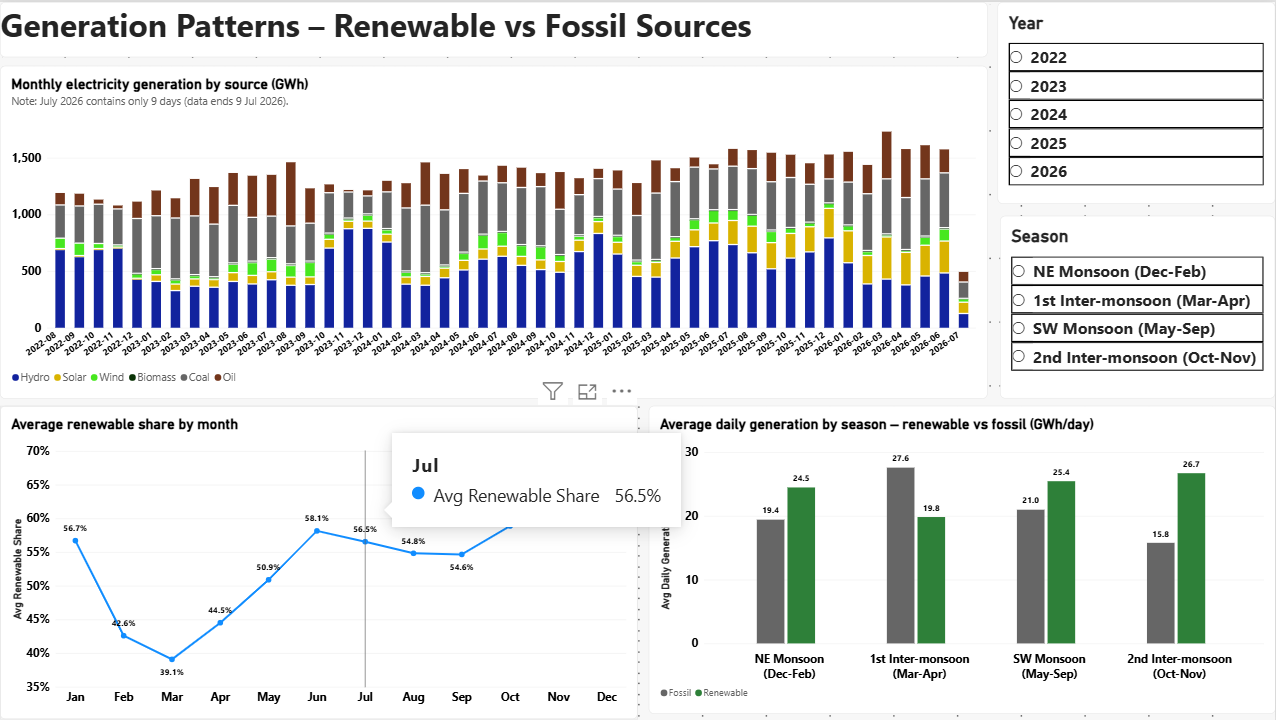

The page's visual inventory and layout, read from the dashboard file:
{"tool":"powerbi","page":{"name":"Generation Patterns","canvas":[1920,1080],"ordinal":1},"visuals":[{"type":"textbox","box":[0,0,1487.1,83.3],"z":0},{"type":"listSlicer","fields":{"Values":["DateTable.Year"]},"box":[1501.6,0,418.4,304.3],"z":1000},{"type":"listSlicer","fields":{"Values":["DateTable.Season"]},"box":[1505.2,322.4,414.8,275.3],"z":2000},{"type":"columnChart","title":"Monthly electricity generation by source (GWh)","fields":{"Category":["DateTable.Year Month"],"Series":["generation_by_source_long.source"],"Y":["generation_by_source_long.Total Generation (GWh)"]},"box":[0,96,1487.1,501.7],"z":3000},{"type":"lineChart","title":"Average renewable share by month","fields":{"Category":["DateTable.Month Name"],"Y":["surplus_risk_daily.Avg Renewable Share"]},"box":[0,608,960,472],"z":4000},{"type":"clusteredColumnChart","title":"Average daily generation by season – renewable vs fossil (GWh/day)","fields":{"Category":["DateTable.Season"],"Series":["generation_by_source_long.source_type"],"Y":["generation_by_source_long.Avg Daily Generation (GWh)"]},"box":[976.3,608.6,943.7,463.7],"z":5000}]}

Visuals, with their boxes in screenshot pixels (x1, y1, x2, y2), scaled from the page's 1920x1080 canvas onto the 1276x720 screenshot:
textbox: bbox=(0, 0, 988, 56)
listSlicer - DateTable.Year: bbox=(998, 0, 1275, 203)
listSlicer - DateTable.Season: bbox=(1000, 215, 1275, 398)
"Monthly electricity generation by source (GWh)" columnChart: bbox=(0, 64, 988, 398)
"Average renewable share by month" lineChart: bbox=(0, 405, 638, 719)
"Average daily generation by season – renewable vs fossil (GWh/day)" clusteredColumnChart: bbox=(649, 406, 1275, 715)
